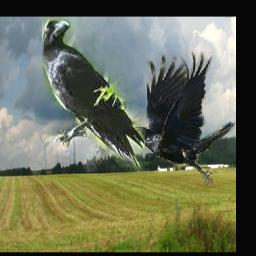Crow: (41, 17, 144, 173), (121, 51, 235, 186)
